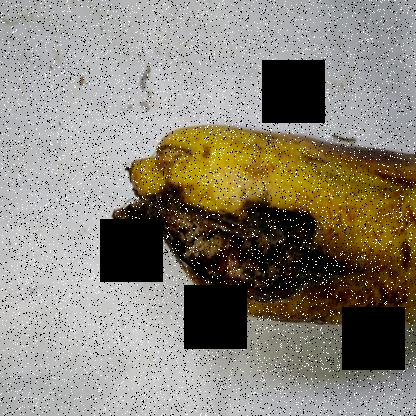ripe: (118, 103, 415, 348)
rotten: (159, 152, 354, 345), (308, 114, 416, 189)
